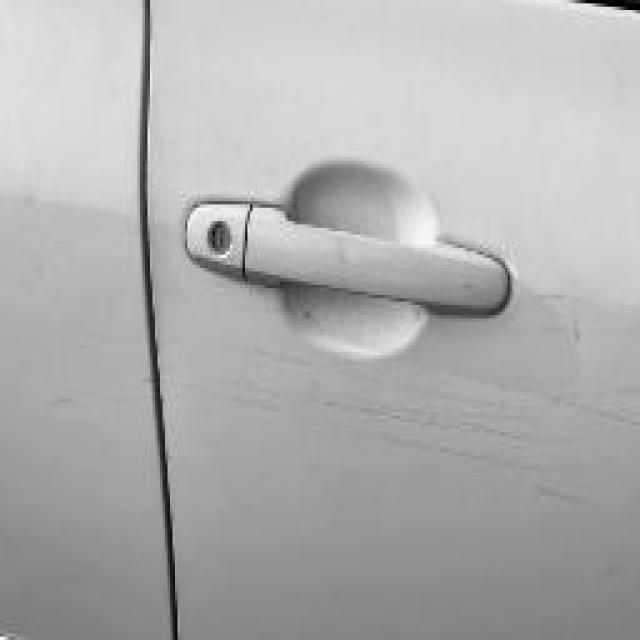Door: (180, 168, 638, 640)
